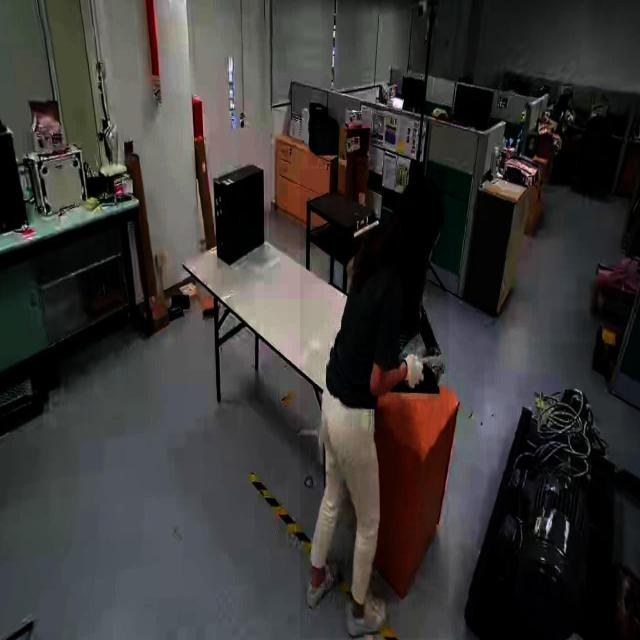hand_glove: (400, 347, 428, 399)
head_nohelmet: (408, 170, 444, 212), (562, 86, 572, 95)
person: (300, 169, 449, 639)
shoes: (301, 550, 345, 612), (342, 593, 388, 640)
